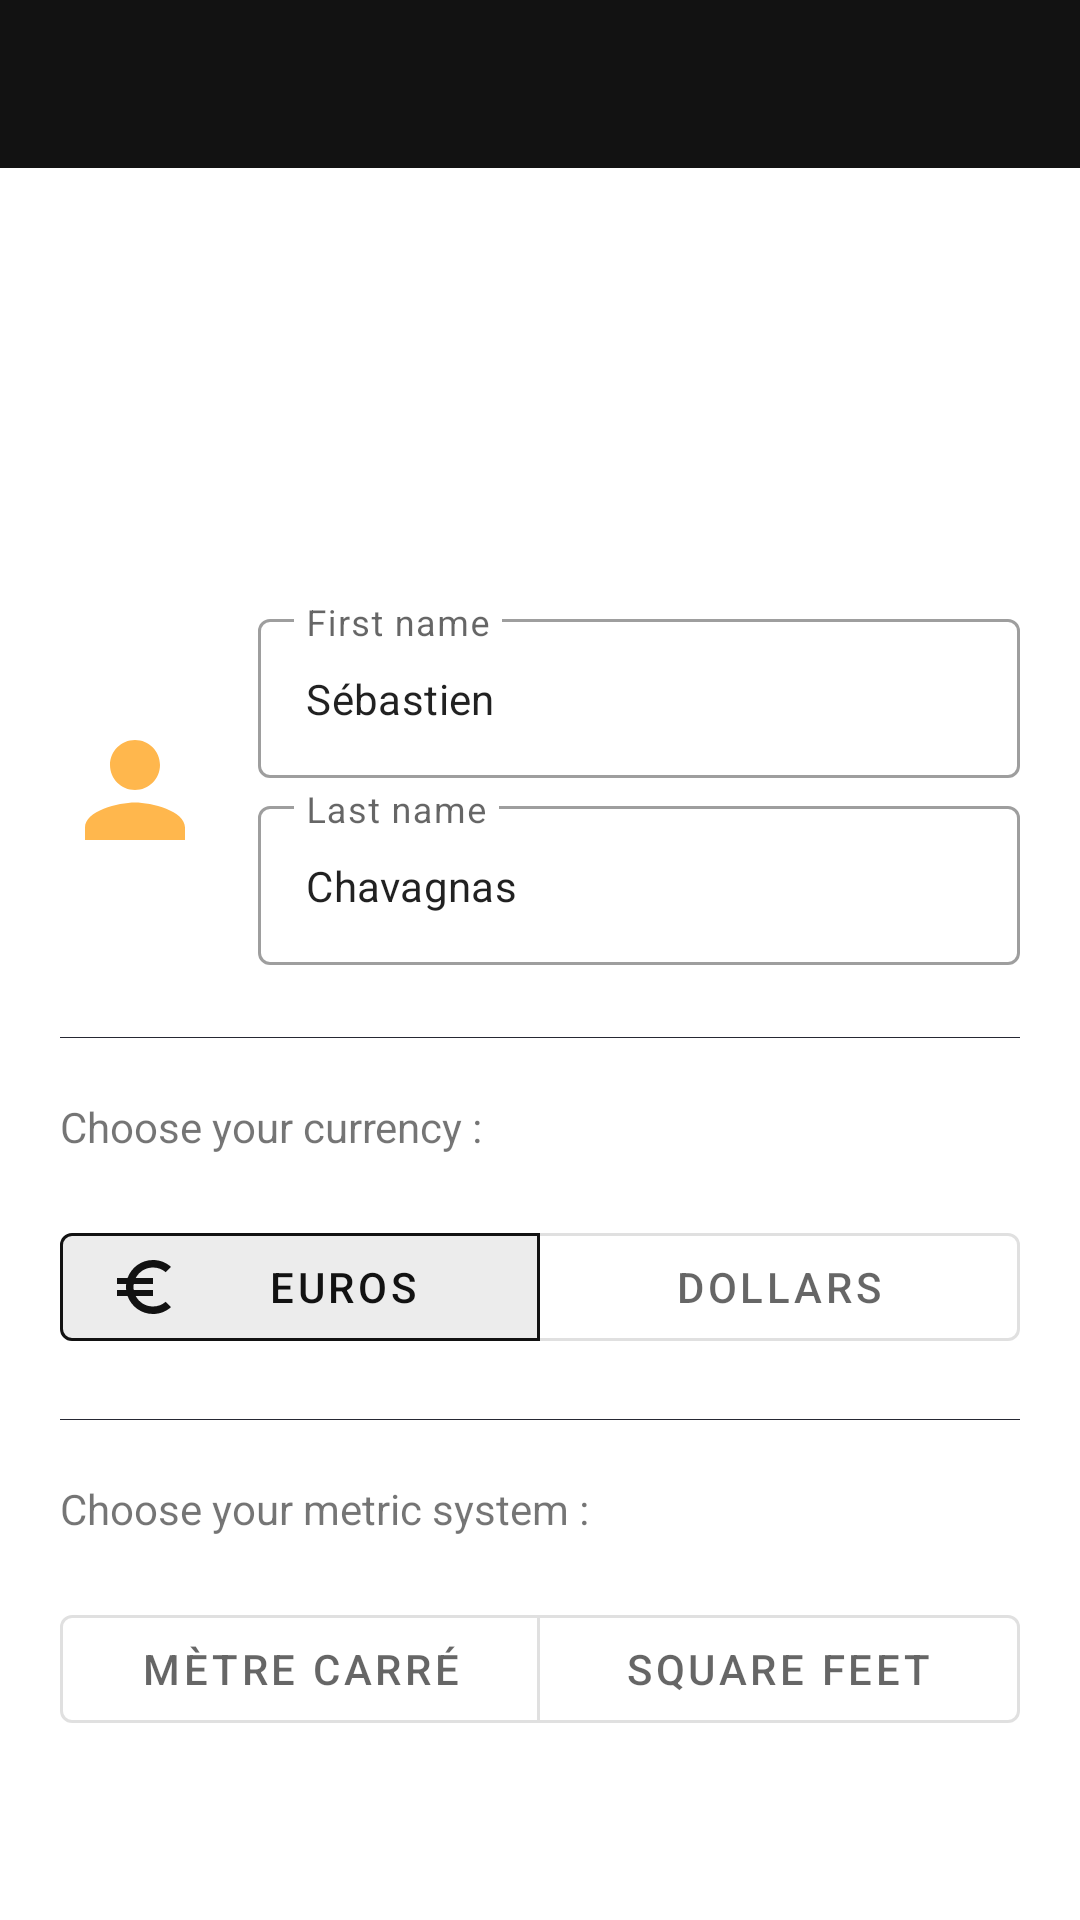

Icons on this 1080px×1920px Android screen, each with its box as {"left": x1, "top": y1, "right": x2, "bottom": y2}:
user: {"left": 85, "top": 740, "right": 185, "bottom": 840}
